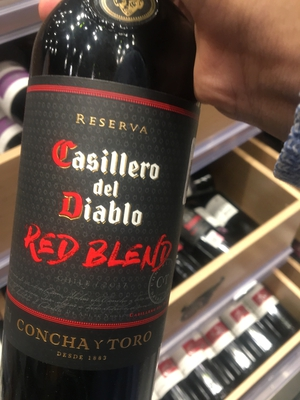casillero del diablo red blend: (9, 28, 205, 400)
